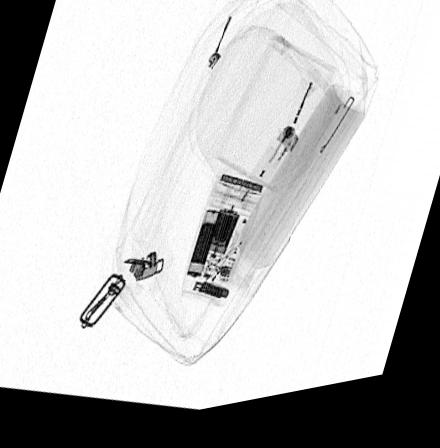Lighter: (235, 136, 300, 228)
